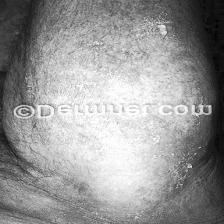Non-Cancerous Skin Condition: (0, 121, 205, 224), (1, 0, 192, 94)
